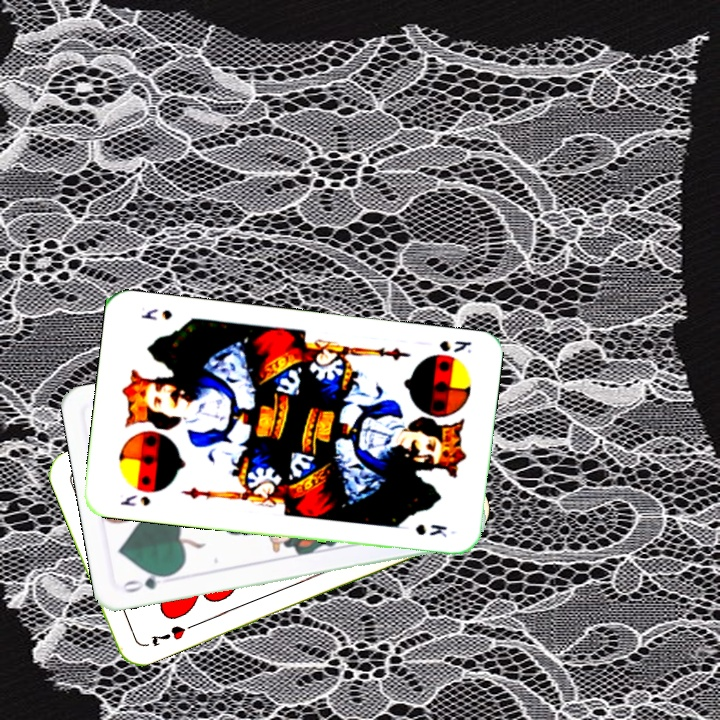GO: (118, 569, 176, 596)
H7: (147, 621, 188, 649)
SK: (436, 336, 474, 356), (116, 491, 153, 509)
